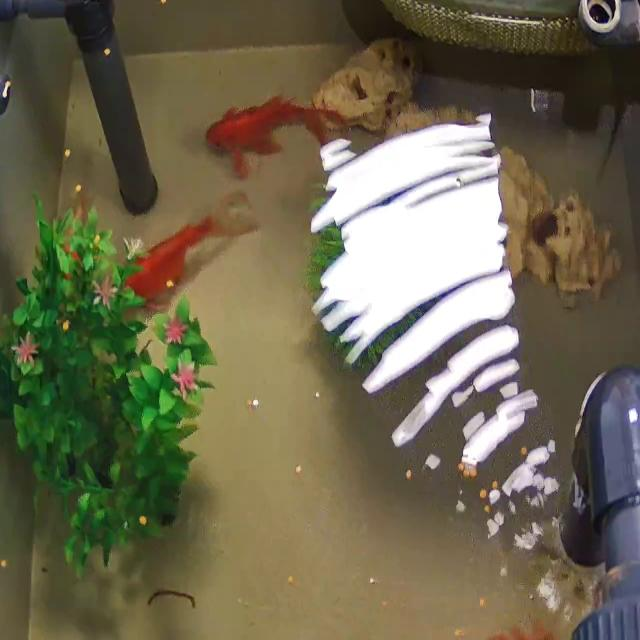fish: (119, 195, 256, 308), (202, 95, 323, 172)
